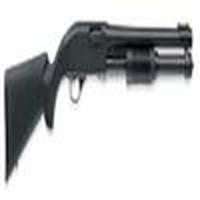gun: (4, 23, 194, 185)
